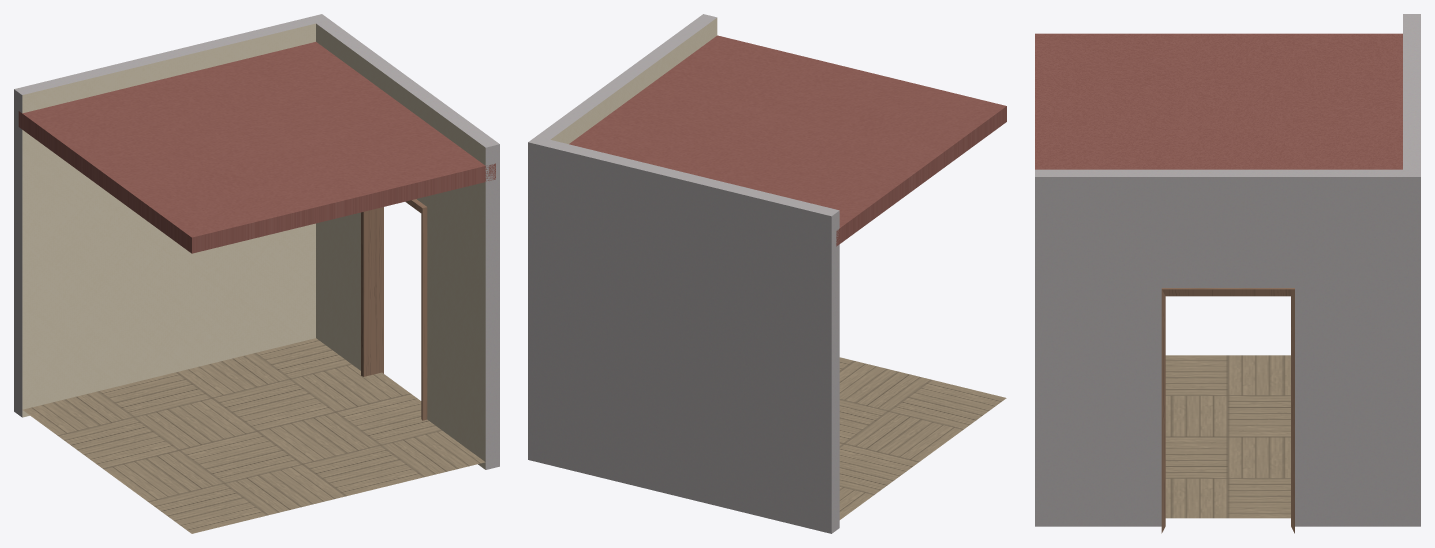
The model's file is house_w2_door.fbx.
The picture shows the model from 3 angles, left to right: view 1: azimuth 30°, elevation 25°; view 2: azimuth 150°, elevation 25°; view 3: azimuth 270°, elevation 25°; orthographic projection. The views are drawn at different scales.
Visible parts, largest first — view 1: wall_2_door.001; view 2: wall_2_door.001; view 3: wall_2_door.001.
Part boxes in pixels (x1,y1,x2,y2): wall_2_door.001: [14, 14, 499, 533]; wall_2_door.001: [528, 14, 1006, 533]; wall_2_door.001: [1035, 14, 1420, 533].
Bounding box in the file's own units: 2.02 × 2.03 × 2.
Materials: 2 (2 with a texture image).
